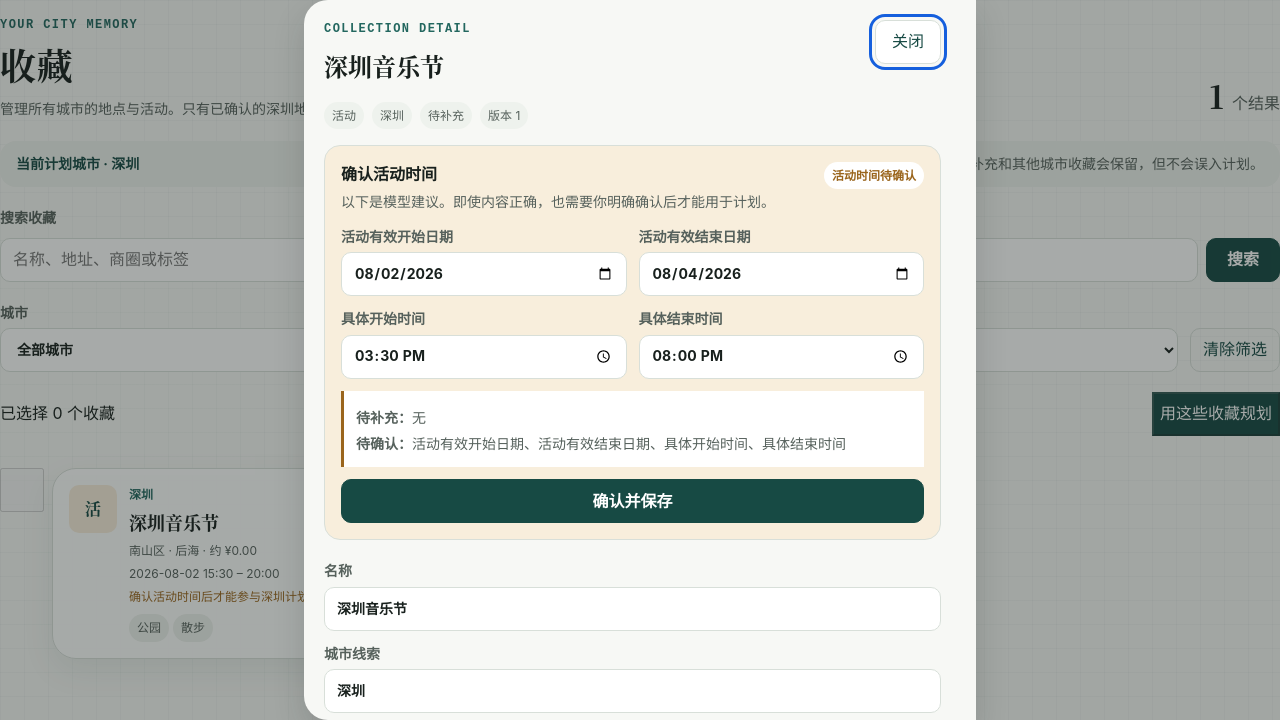
Test: CollectionsExperience › preserves a one-day exact session inside a multi-day effective range
The width and height of the screenshot is (1280, 720).
Expected: the date field labelled "活动有效开始日期" holds "2026-08-02", [341, 252, 626, 296]
Expected: the date field labelled "活动有效结束日期" holds "2026-08-04", [638, 252, 924, 296]
Click the button "确认并保存" at (632, 501), box [341, 479, 924, 523]
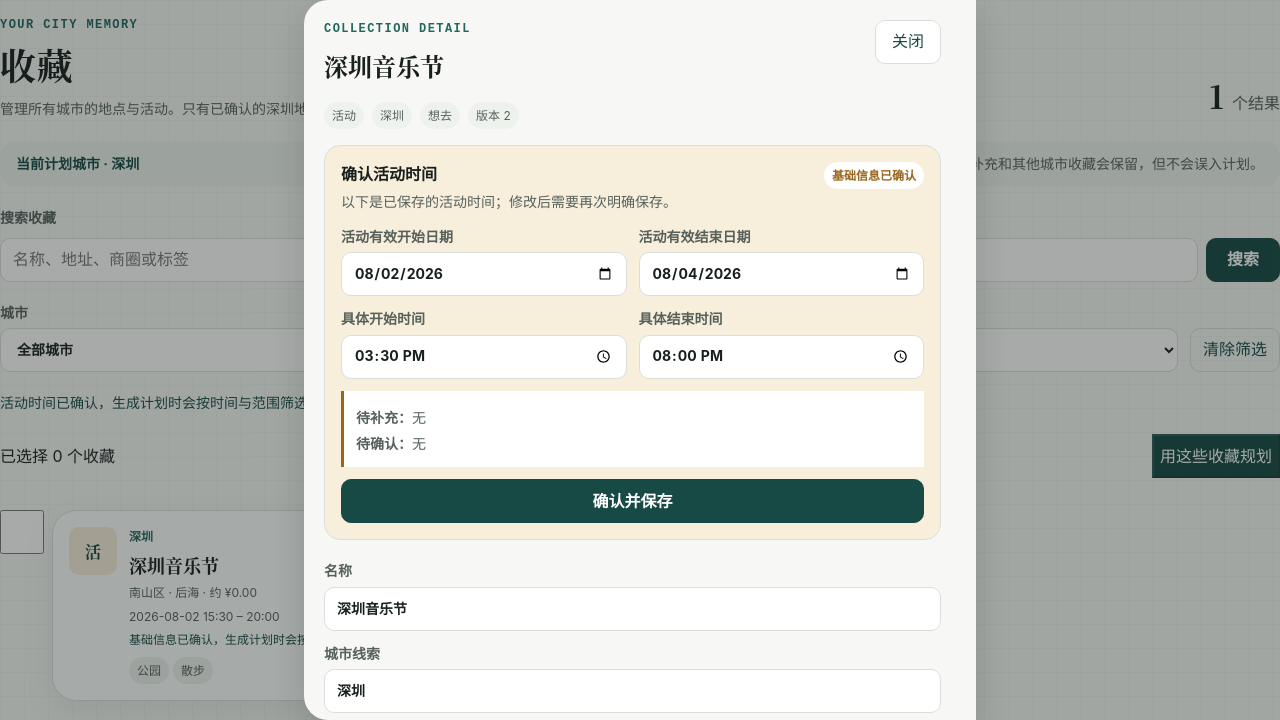
Result: the text "活动时间已确认，生成计划时会按时间与范围筛选。" is shown at [0, 394, 322, 411]
Result: the text "版本 2" is shown at [468, 102, 519, 129]
Result: the text "基础信息已确认" is shown at [824, 162, 924, 189]
